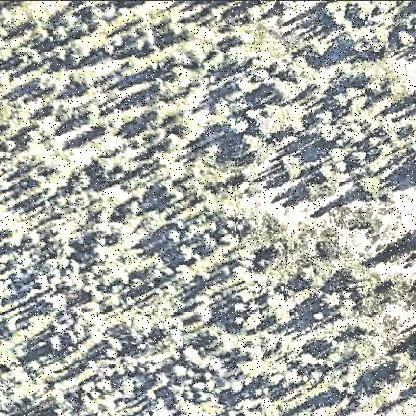tree-top: (343, 24, 381, 54), (264, 293, 294, 329), (295, 258, 329, 288), (352, 289, 384, 318), (385, 351, 413, 380), (237, 135, 267, 162), (275, 154, 303, 182), (303, 37, 329, 65), (68, 66, 96, 92), (127, 314, 155, 340), (355, 174, 381, 201), (90, 153, 117, 179), (151, 73, 177, 100), (274, 80, 300, 106), (30, 72, 57, 97), (77, 100, 102, 126), (324, 143, 349, 169), (123, 56, 148, 80), (320, 3, 347, 25), (146, 100, 170, 124), (240, 309, 263, 333), (116, 376, 138, 400), (318, 289, 340, 311), (224, 377, 246, 399), (227, 115, 249, 137), (234, 75, 256, 97), (191, 303, 212, 326), (398, 27, 416, 53), (381, 76, 402, 98), (72, 170, 92, 192), (197, 233, 217, 255), (297, 352, 318, 372), (14, 250, 33, 272), (180, 347, 200, 367), (301, 183, 321, 203), (66, 47, 85, 67), (45, 332, 64, 352), (124, 199, 143, 219), (50, 44, 69, 64), (170, 363, 190, 381), (267, 242, 287, 260), (166, 226, 182, 244), (24, 356, 42, 372)
